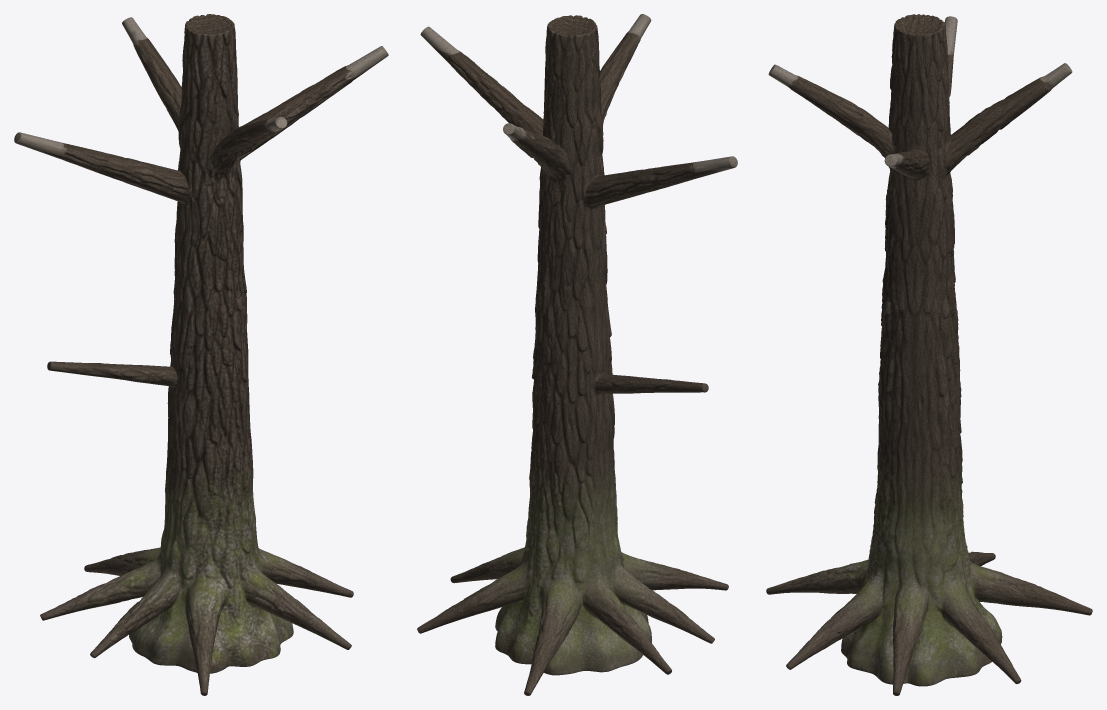
Rendered from Meshy_AI_Bare_Tree_Trunk_1001065119_texture.glb.
3 renders of one model, left to right at view 1: azimuth 30°, elevation 25°; view 2: azimuth 150°, elevation 25°; view 3: azimuth 270°, elevation 25°, orthographic.
Visible parts, largest first — view 1: MESHY_TRONCO; view 2: MESHY_TRONCO; view 3: MESHY_TRONCO.
Boxes of the visible parts, left/top/right/bottom form: MESHY_TRONCO: left=14, top=14, right=388, bottom=695; MESHY_TRONCO: left=417, top=14, right=737, bottom=695; MESHY_TRONCO: left=766, top=14, right=1092, bottom=695.
Bounding box in the file's own units: 6.37 × 10.91 × 5.15.
Materials: 1 (1 with a texture image).
